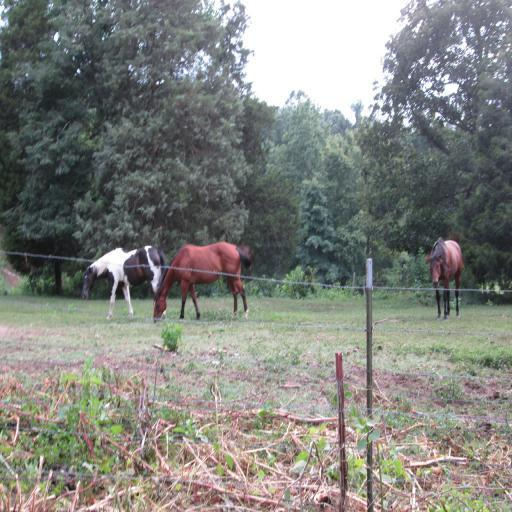horse: (152, 244, 254, 324), (82, 244, 172, 320), (429, 236, 465, 320)
